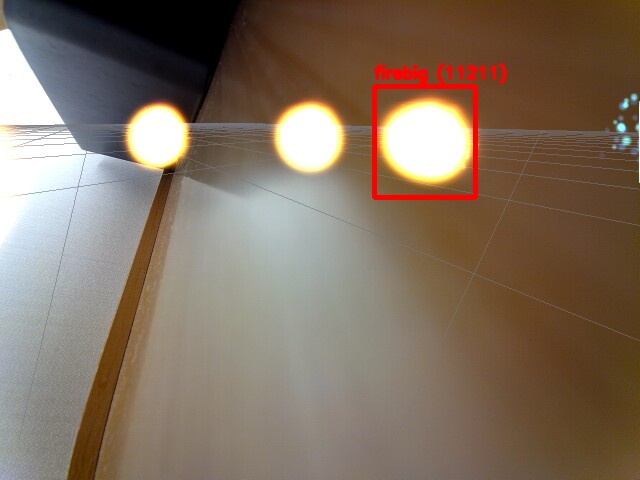firebig: (374, 86, 475, 197)
